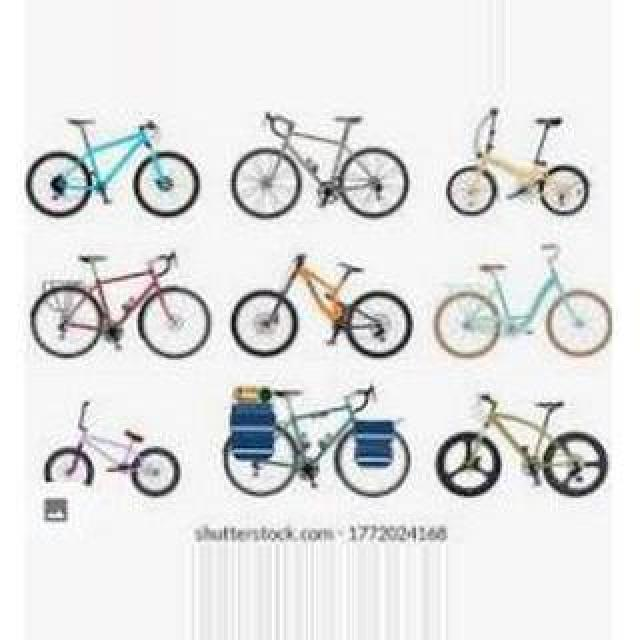Person: (220, 382, 412, 500), (434, 244, 610, 362), (32, 250, 210, 360), (230, 112, 412, 218), (230, 252, 414, 356), (436, 390, 606, 500), (26, 118, 202, 218), (446, 112, 592, 218), (44, 398, 182, 494)
